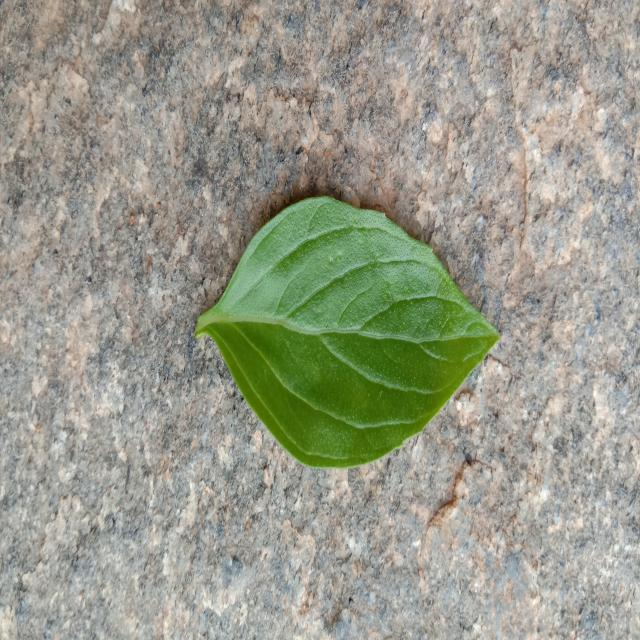kamakasturi: (195, 197, 499, 466)
